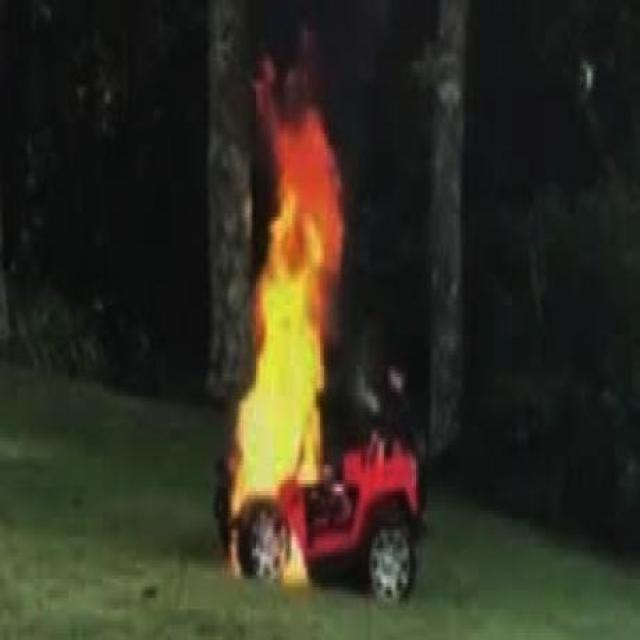Fire: (217, 74, 354, 512)
